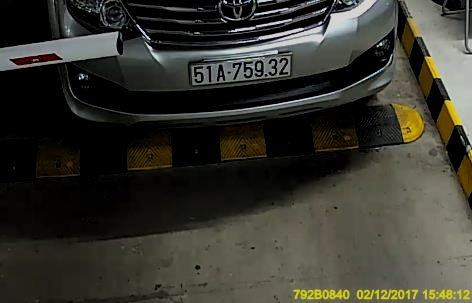plate: (185, 56, 298, 83)
